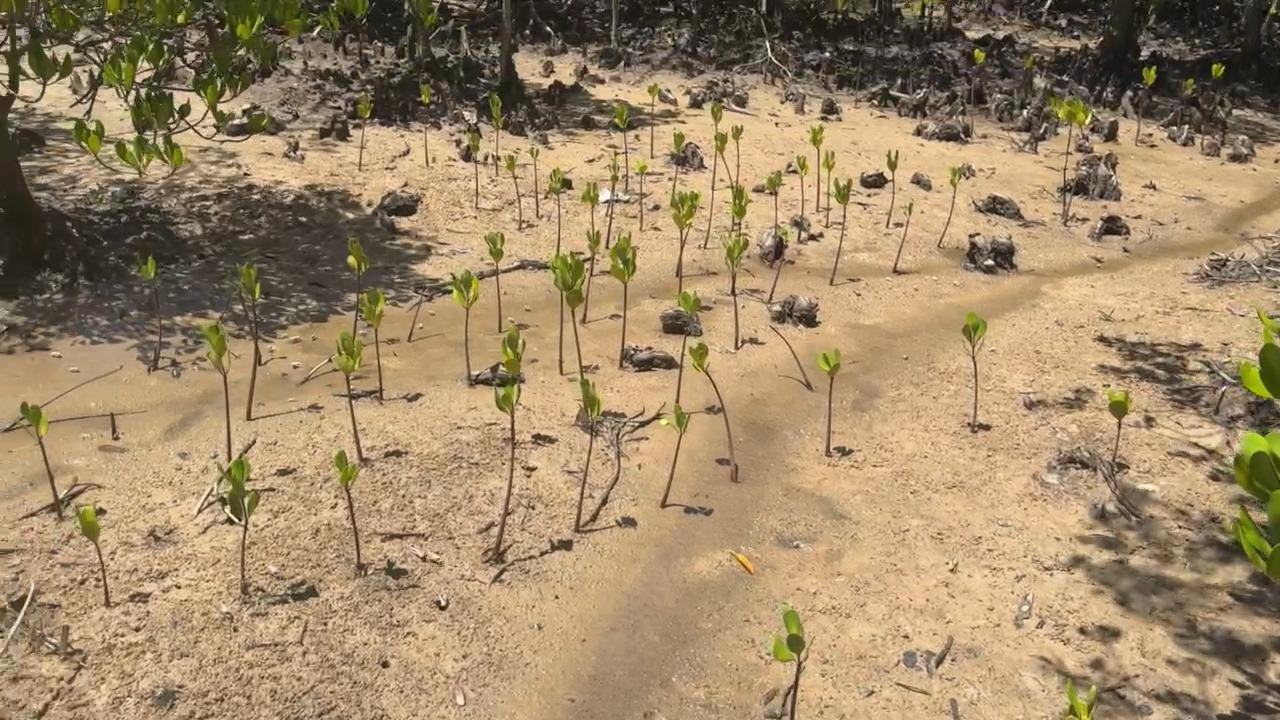Tree: (491, 323, 526, 555), (689, 341, 738, 480), (215, 456, 261, 594), (19, 401, 63, 518), (1050, 96, 1091, 210), (201, 318, 233, 463), (551, 251, 586, 378), (676, 289, 713, 404), (608, 231, 639, 368), (576, 378, 603, 531), (335, 331, 364, 463), (131, 250, 162, 370), (73, 503, 109, 604), (447, 269, 479, 381), (773, 610, 805, 720), (333, 449, 362, 565), (720, 233, 749, 349), (241, 263, 262, 420), (661, 402, 691, 509), (232, 261, 262, 365), (551, 252, 576, 375), (961, 311, 987, 427), (768, 324, 812, 390), (359, 288, 384, 400), (671, 189, 697, 295), (816, 346, 841, 454), (345, 236, 369, 342), (937, 166, 967, 247), (674, 190, 701, 278), (830, 178, 852, 286), (483, 232, 505, 332), (713, 130, 735, 230), (1201, 63, 1225, 149), (1107, 387, 1131, 463), (582, 230, 601, 321), (1135, 66, 1157, 144), (611, 102, 630, 191), (892, 202, 913, 273), (549, 167, 566, 254), (1061, 678, 1096, 720), (504, 154, 523, 230), (792, 154, 808, 241), (489, 93, 505, 176), (357, 92, 373, 171), (764, 170, 783, 236), (809, 125, 823, 212), (606, 163, 620, 248), (972, 48, 986, 133), (821, 148, 836, 227), (732, 183, 753, 237), (407, 284, 426, 341), (711, 100, 723, 190), (886, 149, 899, 227), (634, 158, 647, 231), (670, 130, 684, 195), (468, 134, 480, 208), (582, 183, 598, 237), (1178, 78, 1196, 126), (730, 124, 744, 185), (648, 82, 659, 158), (605, 150, 617, 217), (421, 84, 430, 166), (1064, 174, 1077, 224), (767, 259, 782, 302), (530, 146, 539, 217), (705, 190, 715, 248), (109, 413, 118, 438)
